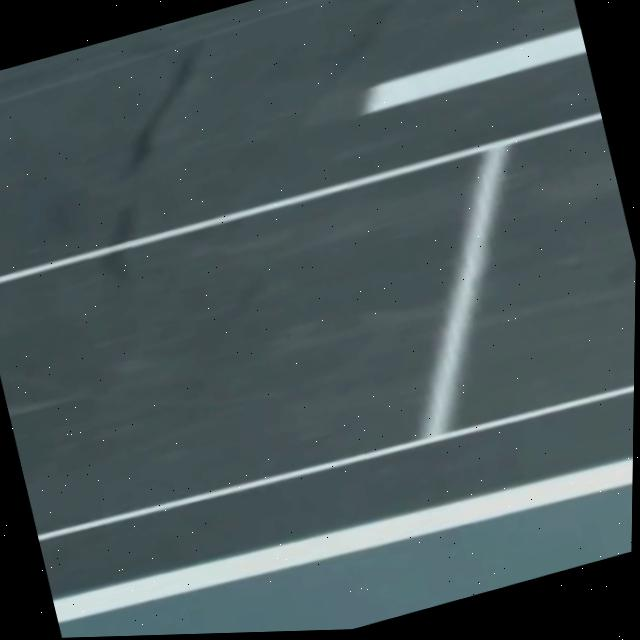center: (360, 27, 586, 114)
left: (52, 458, 633, 624)
